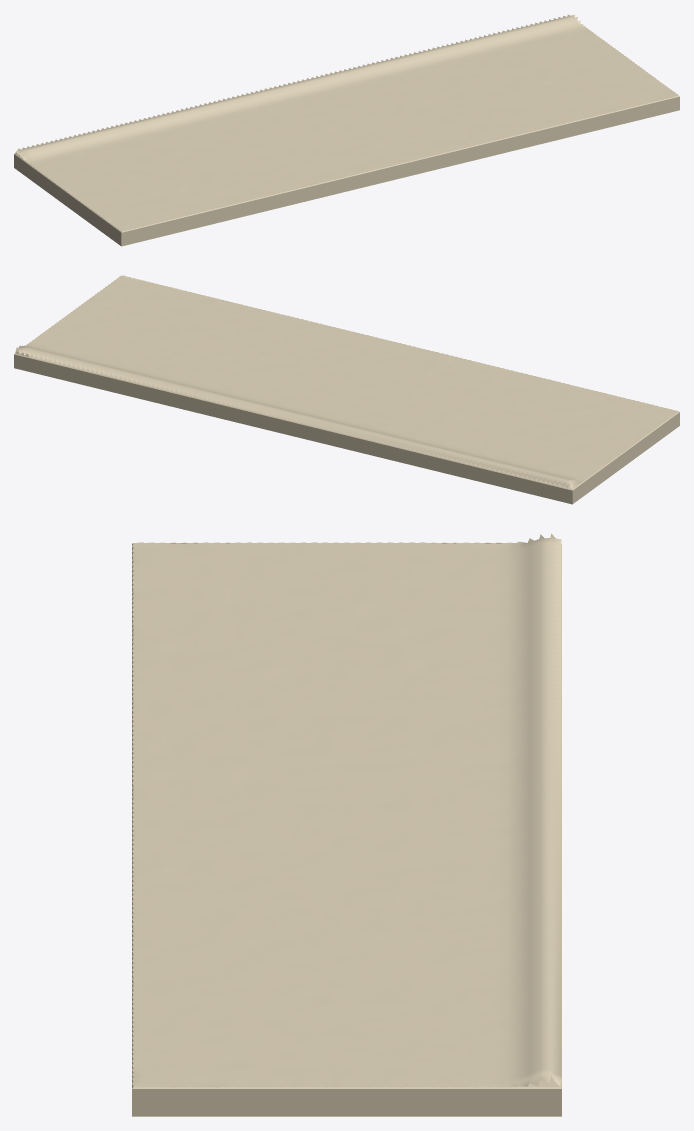
Rendered from mahsulot.glb.
The picture shows the model from 3 angles, top to bottom: view 1: azimuth 30°, elevation 25°; view 2: azimuth 150°, elevation 25°; view 3: azimuth 270°, elevation 25°; orthographic projection. The views are drawn at different scales.
Visible parts, largest first — view 1: mahsulot; view 2: mahsulot; view 3: mahsulot.
Part boxes in pixels (x1,y1,x2,y2): mahsulot: [14, 14, 679, 246]; mahsulot: [14, 275, 679, 504]; mahsulot: [132, 533, 561, 1116].
Size of the model in its own units: 1.2 by 0.0391 by 0.4.
